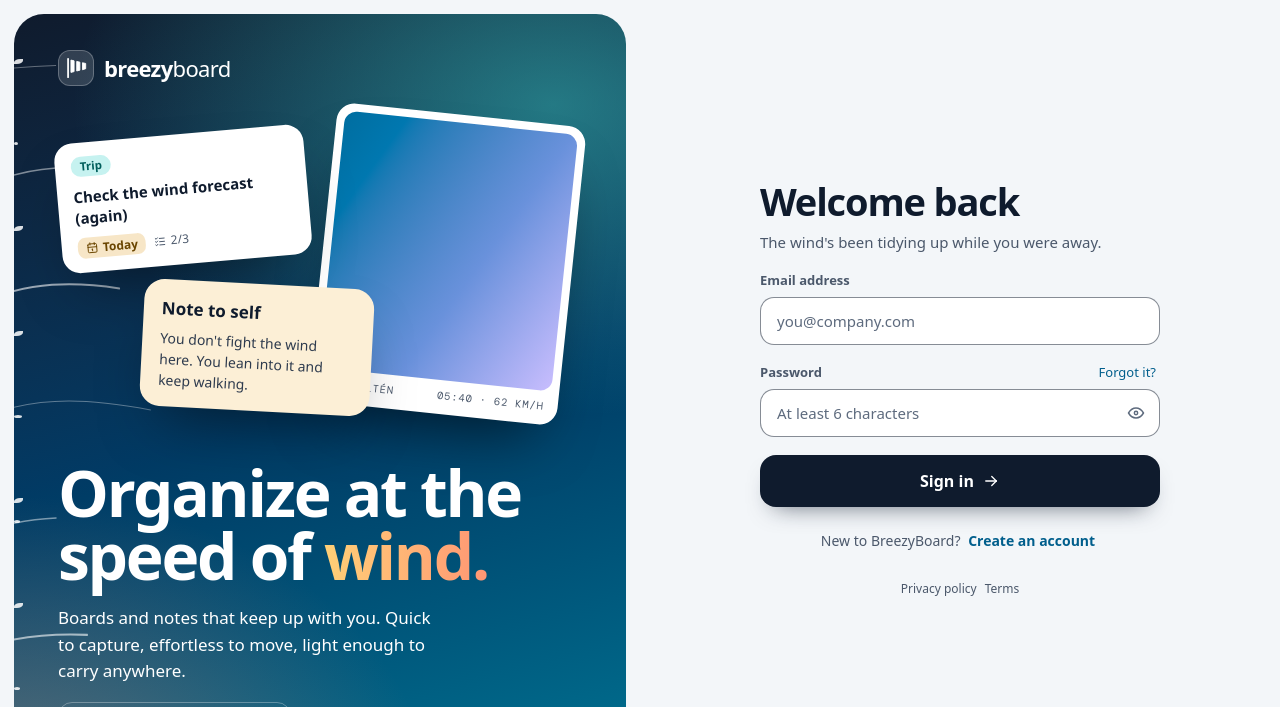
Test: Sign in validation › refuses a password too short to be one
In the field labelled "Email address": (960, 321) top-left (760, 297), bottom-right (1160, 345), type "ada@example.com"
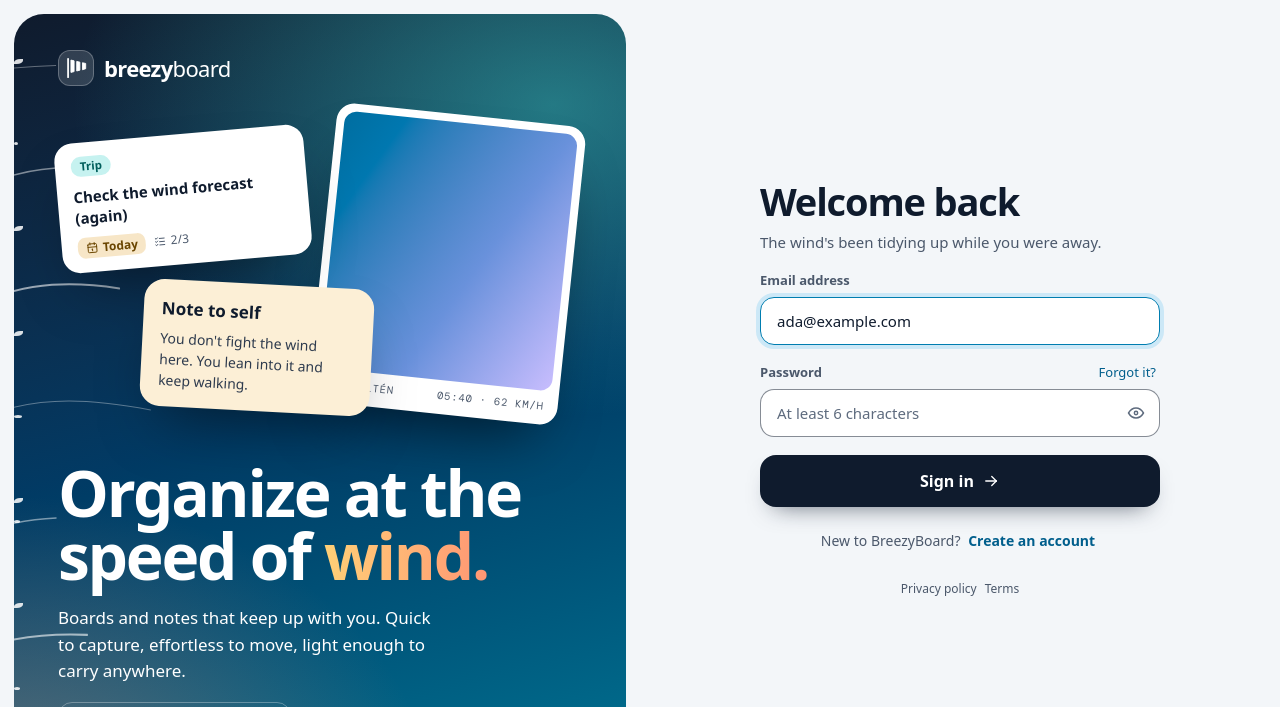
In the password field labelled "Password": (960, 413) top-left (760, 389), bottom-right (1160, 437), type "abc"
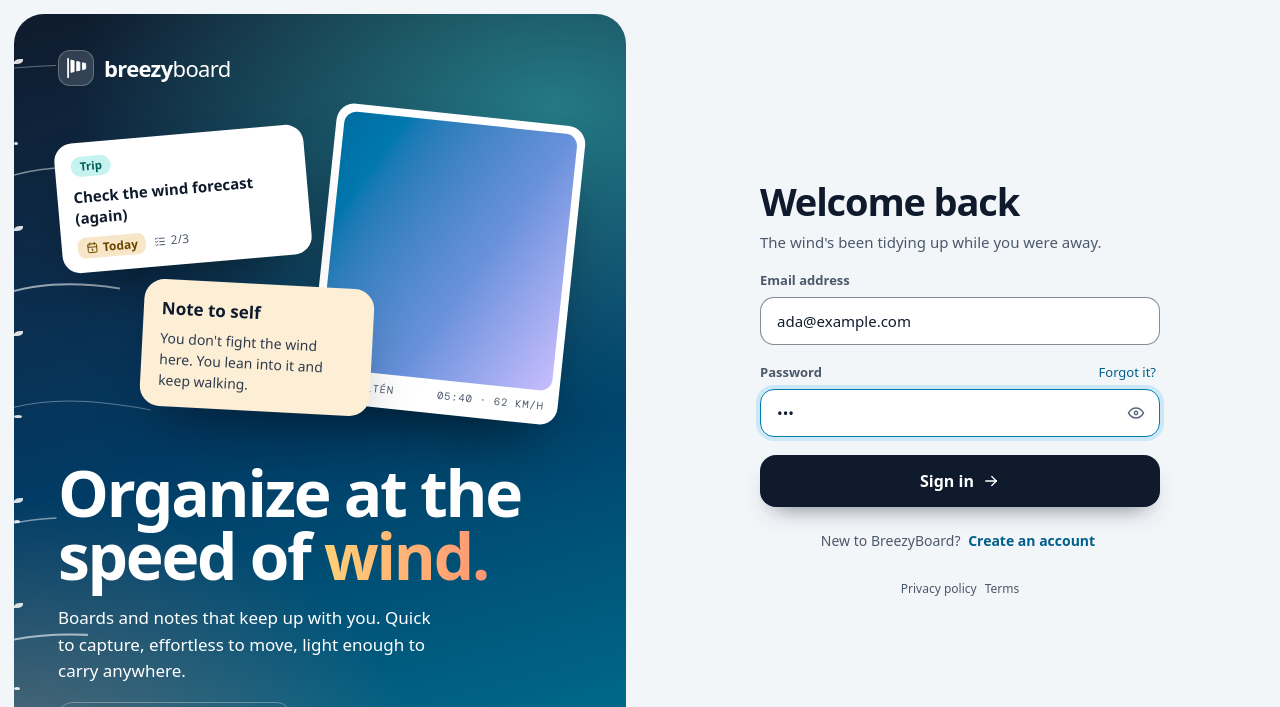
Click the button "Sign in": (960, 481) top-left (760, 455), bottom-right (1160, 507)
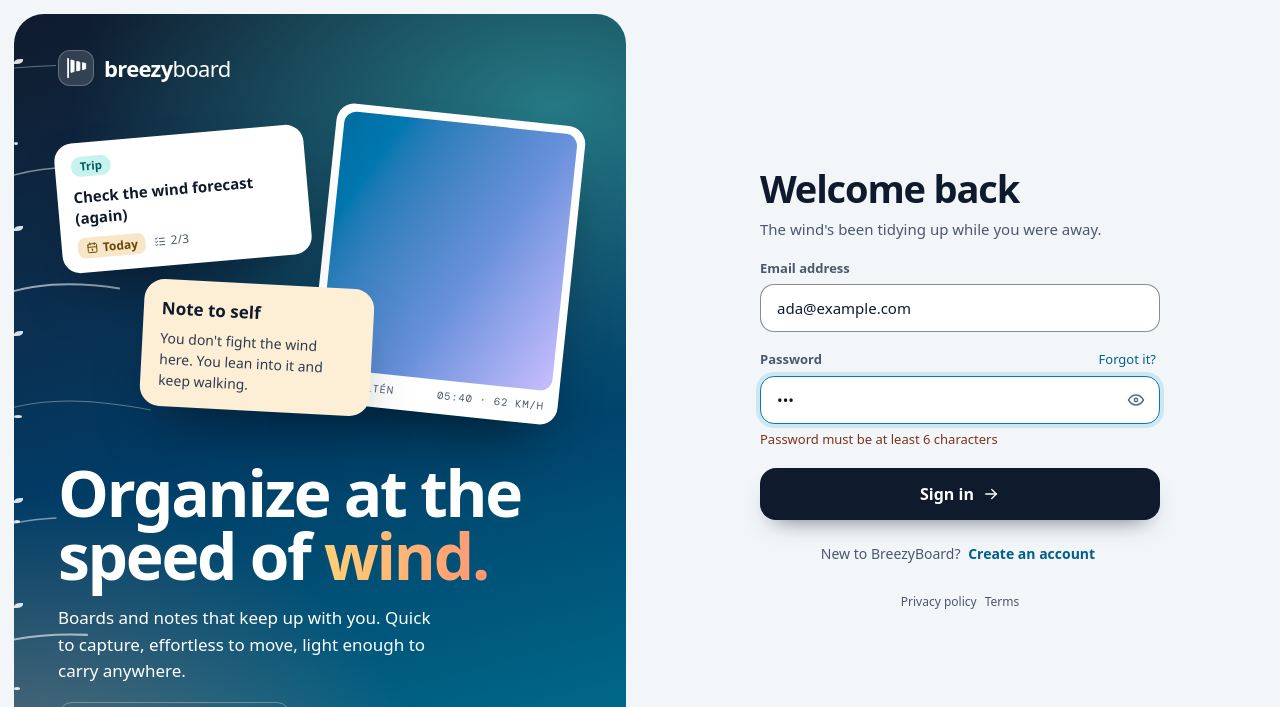
Expected: the text "Password must be at least 6 characters" is shown, top-left (760, 430), bottom-right (998, 448)
